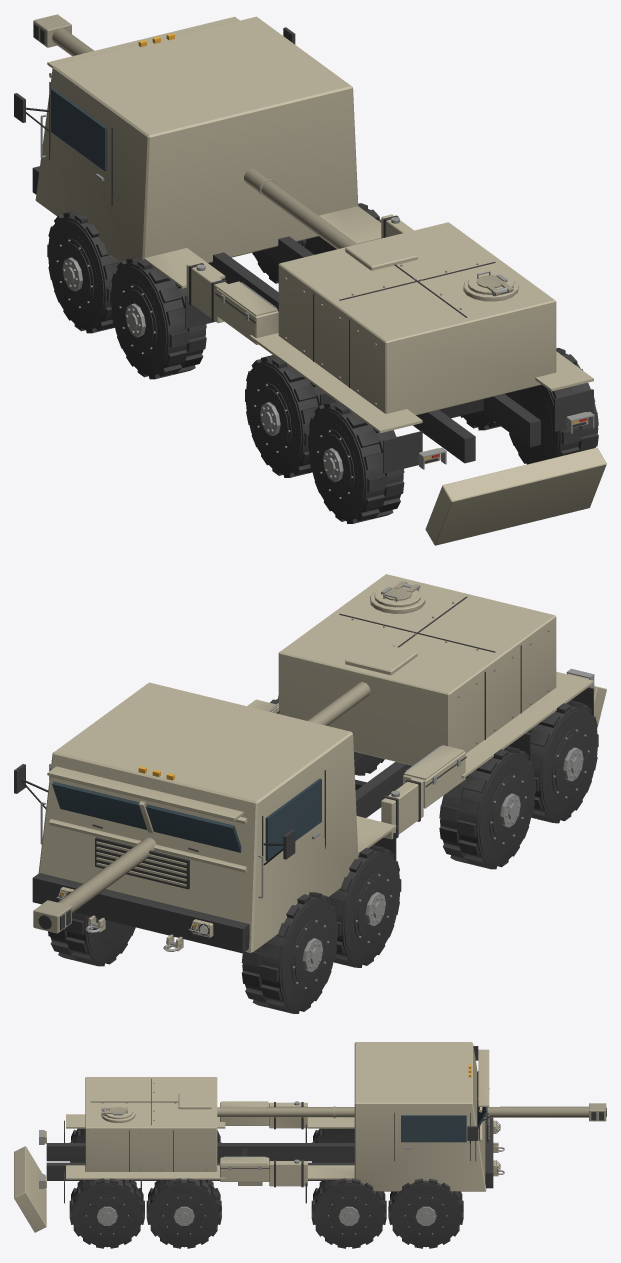
File: rus_spg_malva.glb
3 renders of one model, top to bottom at view 1: azimuth 30°, elevation 25°; view 2: azimuth 150°, elevation 25°; view 3: azimuth 270°, elevation 25°, orthographic. The views are drawn at different scales.
Parts seen in each view (by area): view 1: body, turret, barrel, wheel_6, wheel_2, wheel_4, wheel_0, wheel_7; view 2: body, turret, wheel_4, wheel_0, wheel_6, wheel_2, barrel, wheel_1; view 3: body, turret, barrel, wheel_5, wheel_7, wheel_3, wheel_1, wheel_2.
Part boxes in pixels (x1,y1,x2,y2): body: (14,16,594,473); turret: (278,222,556,415); barrel: (33,14,606,545); wheel_6: (308,401,404,523); wheel_2: (110,257,206,379); wheel_4: (245,355,324,477); wheel_0: (47,211,119,333); wheel_7: (505,347,598,464); body: (14,668,594,953); turret: (278,574,556,765); wheel_4: (439,746,535,869); wheel_0: (241,892,338,1013); wheel_6: (526,700,598,823); wheel_2: (328,845,401,967); barrel: (33,641,606,933); wheel_1: (48,912,135,966); body: (39,1042,504,1203); turret: (85,1077,217,1171); barrel: (14,1093,606,1232); wheel_5: (146,1178,221,1248); wheel_7: (69,1178,144,1248); wheel_3: (311,1178,386,1248); wheel_1: (388,1178,463,1248); wheel_2: (311,1128,354,1162).
Size of the model in its own units: 3.5 by 2.9 by 10.79.
